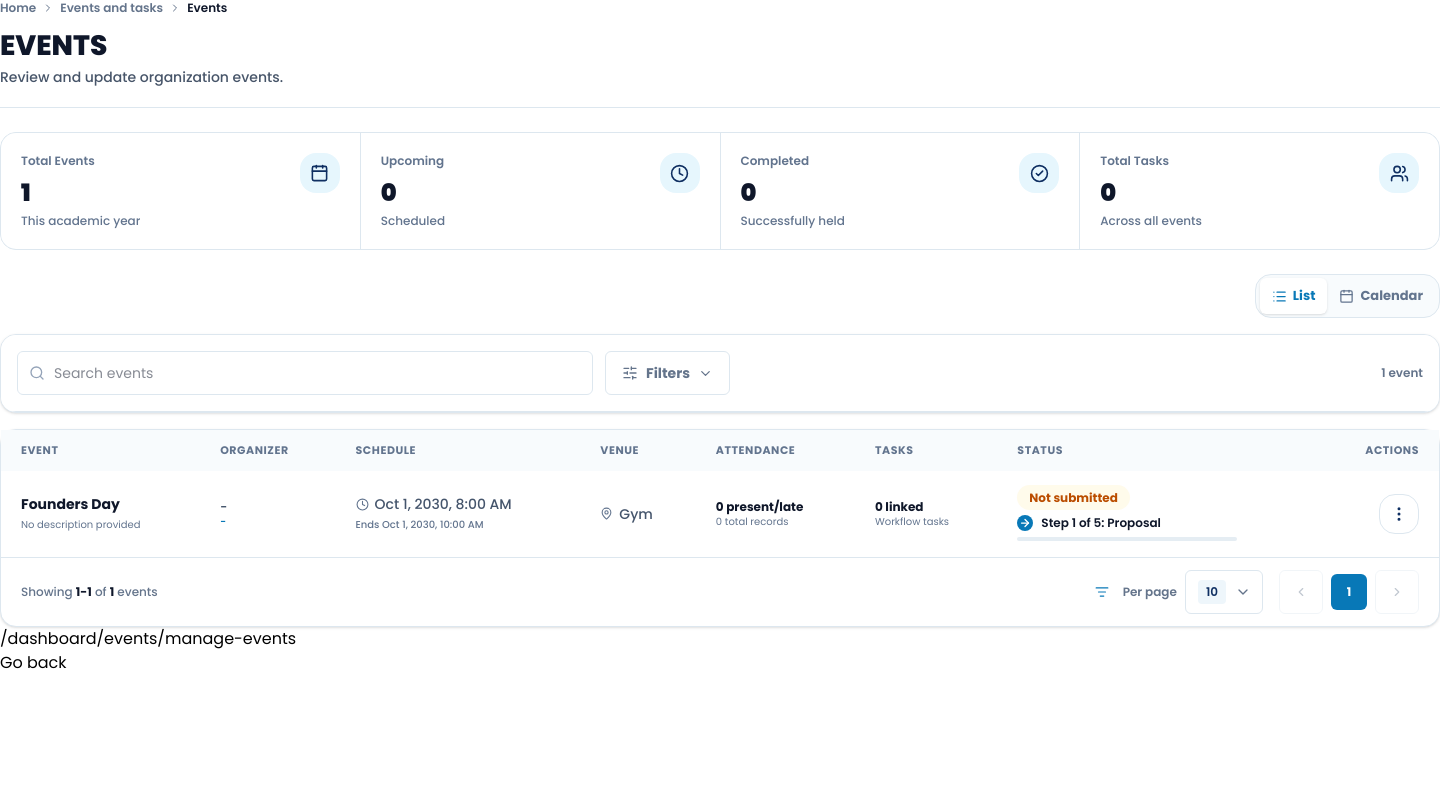
Test: event drawer stage and next action › not_submitted for SBO_OFFICER says "Waiting for the Admin to submit the proposal"
Click the button named "Actions for Founders Day" at (1399, 514), box [1379,494,1419,534]
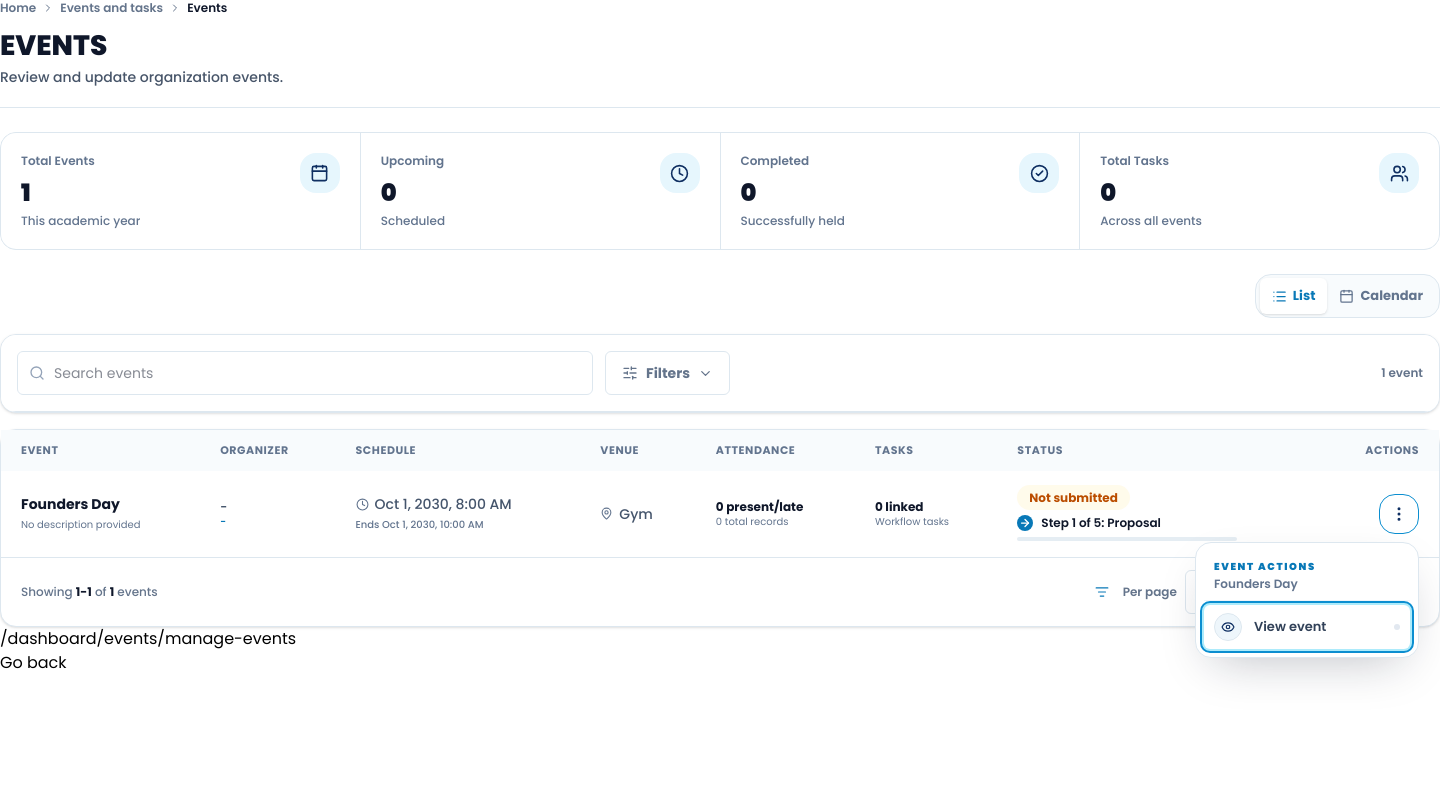
Click the menu item "View event" at (1307, 626), box [1204,604,1410,648]
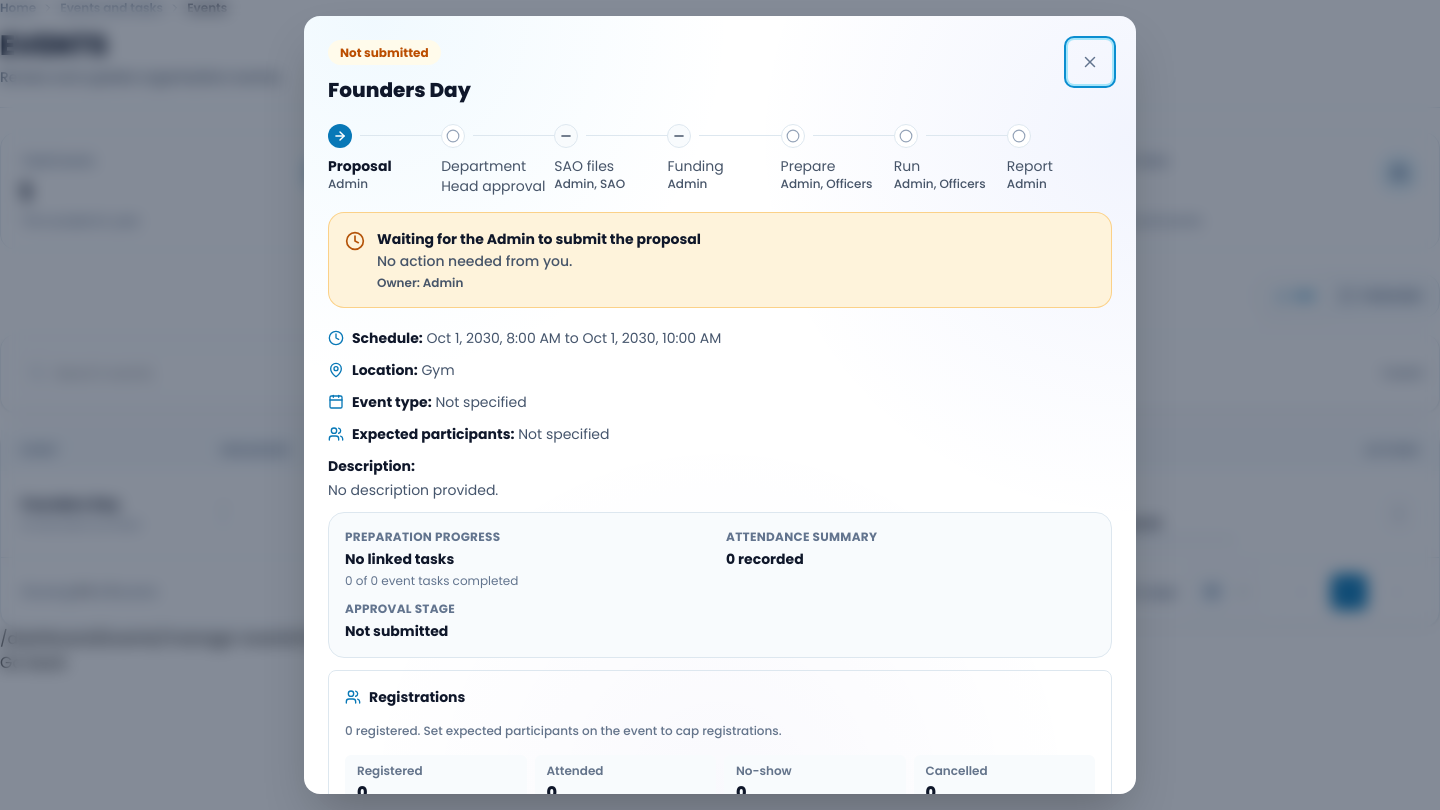
Expected: the list named "Event progress" is shown, [328,124,1112,196]
Expected: the text "Waiting for the Admin to submit the proposal" is shown, [377,229,701,249]
